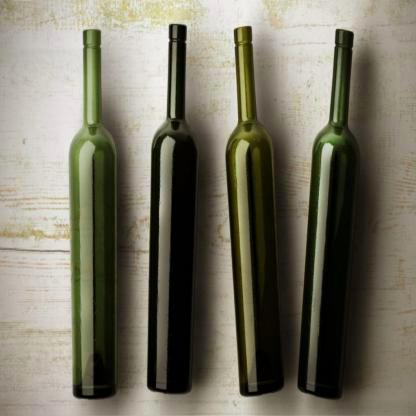Glass: (296, 24, 364, 400), (222, 19, 286, 398), (143, 15, 201, 396), (67, 24, 124, 400)
